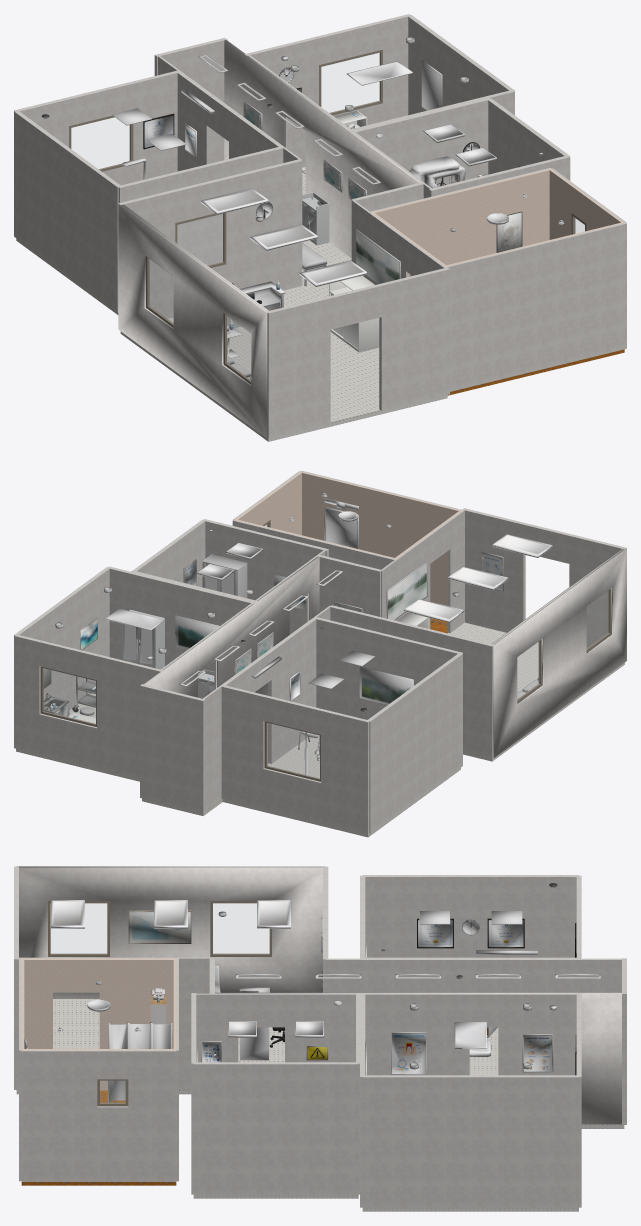
File: scene_named.glb
3 views of the same model, one above another, from view 1: azimuth 30°, elevation 25°; view 2: azimuth 150°, elevation 25°; view 3: azimuth 270°, elevation 25° (orthographic). The views are drawn at different scales.
Parts seen in each view (by area): view 1: south_wall_exterior_bathroom/south_wall_exterior_bathroom/ge, south_wall_exterior_reception_waiting/south_wall_exterior_re, west_wall_exterior_reception_waiting/west_wall_exterior_rece, west_wall_exterior_exam_room_1/west_wall_exterior_exam_room_, north_wall_reception_waiting/north_wall_reception_waiting/ge, east_wall_corridor/east_wall_corridor/geometry_0, north_wall_bathroom/north_wall_bathroom/geometry_0, north_wall_exam_room_2/north_wall_exam_room_2/geometry_0, north_wall_exam_room_1/north_wall_exam_room_1/geometry_0, floor_reception_waiting, north_wall_xray_room/north_wall_xray_room/geometry_0, south_wall_exterior_exam_room_1/south_wall_exterior_exam_roo (+28 smaller); view 2: north_wall_exterior_exam_room_1/north_wall_exterior_exam_roo, west_wall_exterior_reception_waiting/west_wall_exterior_rece, north_wall_exterior_exam_room_2/north_wall_exterior_exam_roo, west_wall_exterior_exam_room_1/west_wall_exterior_exam_room_, south_wall_reception_waiting/south_wall_reception_waiting/ge, south_wall_bathroom/south_wall_bathroom/geometry_0, north_wall_exterior_corridor/north_wall_exterior_corridor/ge, east_wall_corridor/east_wall_corridor/geometry_0, south_wall_exam_room_1/south_wall_exam_room_1/geometry_0, south_wall_exam_room_2/south_wall_exam_room_2/geometry_0, north_wall_exterior_reception_waiting/north_wall_exterior_re, east_wall_exam_room_2/east_wall_exam_room_2/geometry_0 (+25 smaller); view 3: east_wall_exterior_exam_room_2/east_wall_exterior_exam_room_, east_wall_exterior_xray_room/east_wall_exterior_xray_room/ge, west_wall_reception_waiting/west_wall_reception_waiting/geom, east_wall_exterior_bathroom/east_wall_exterior_bathroom/geom, west_wall_exam_room_1/west_wall_exam_room_1/geometry_0, west_wall_exam_room_2/west_wall_exam_room_2/geometry_0, west_wall_corridor/west_wall_corridor/geometry_0, west_wall_bathroom/west_wall_bathroom/geometry_0, west_wall_xray_room/west_wall_xray_room/geometry_0, east_wall_corridor/east_wall_corridor/geometry_0, floor_reception_waiting, east_wall_reception_waiting/east_wall_reception_waiting/geom (+33 smaller).
Part boxes in pixels (box(x1,y1,x2,y2)): south_wall_exterior_bathroom/south_wall_exterior_bathroom/ge: box(444, 222, 626, 391); south_wall_exterior_reception_waiting/south_wall_exterior_re: box(267, 268, 449, 438); west_wall_exterior_reception_waiting/west_wall_exterior_rece: box(118, 204, 267, 437); west_wall_exterior_exam_room_1/west_wall_exterior_exam_room_: box(14, 111, 118, 312); north_wall_reception_waiting/north_wall_reception_waiting/ge: box(120, 160, 302, 318); east_wall_corridor/east_wall_corridor/geometry_0: box(224, 40, 420, 258); north_wall_bathroom/north_wall_bathroom/geometry_0: box(370, 168, 552, 265); north_wall_exam_room_2/north_wall_exam_room_2/geometry_0: box(246, 15, 410, 167); north_wall_exam_room_1/north_wall_exam_room_1/geometry_0: box(15, 71, 180, 185); floor_reception_waiting: box(120, 286, 447, 441); north_wall_xray_room/north_wall_xray_room/geometry_0: box(352, 98, 490, 186); south_wall_exterior_exam_room_1/south_wall_exterior_exam_roo: box(118, 147, 283, 265); north_wall_exterior_exam_room_1/north_wall_exterior_exam_roo: box(221, 685, 369, 834); west_wall_exterior_reception_waiting/west_wall_exterior_rece: box(493, 548, 626, 757); north_wall_exterior_exam_room_2/north_wall_exterior_exam_roo: box(14, 635, 161, 778); west_wall_exterior_exam_room_1/west_wall_exterior_exam_room_: box(369, 653, 462, 833); south_wall_reception_waiting/south_wall_reception_waiting/ge: box(462, 509, 625, 648); south_wall_bathroom/south_wall_bathroom/geometry_0: box(299, 471, 462, 605); north_wall_exterior_corridor/north_wall_exterior_corridor/ge: box(140, 685, 204, 812); east_wall_corridor/east_wall_corridor/geometry_0: box(143, 556, 319, 697); south_wall_exam_room_1/south_wall_exam_room_1/geometry_0: box(314, 617, 461, 719); south_wall_exam_room_2/south_wall_exam_room_2/geometry_0: box(107, 567, 254, 671); north_wall_exterior_reception_waiting/north_wall_exterior_re: box(330, 606, 493, 758); east_wall_exam_room_2/east_wall_exam_room_2/geometry_0: box(17, 568, 109, 709); east_wall_exterior_exam_room_2/east_wall_exterior_exam_room_: box(362, 1076, 578, 1207); east_wall_exterior_xray_room/east_wall_exterior_xray_room/ge: box(193, 1063, 358, 1194); west_wall_reception_waiting/west_wall_reception_waiting/geom: box(19, 867, 322, 998); east_wall_exterior_bathroom/east_wall_exterior_bathroom/geom: box(21, 1050, 176, 1181); west_wall_exam_room_1/west_wall_exam_room_1/geometry_0: box(365, 876, 576, 957); west_wall_exam_room_2/west_wall_exam_room_2/geometry_0: box(365, 993, 576, 1075); west_wall_corridor/west_wall_corridor/geometry_0: box(325, 958, 621, 1075); west_wall_bathroom/west_wall_bathroom/geometry_0: box(24, 958, 173, 1090); west_wall_xray_room/west_wall_xray_room/geometry_0: box(196, 993, 355, 1062); east_wall_corridor/east_wall_corridor/geometry_0: box(215, 992, 621, 1124); floor_reception_waiting: box(16, 999, 284, 1094); east_wall_reception_waiting/east_wall_reception_waiting/geom: box(19, 957, 212, 1089).
Bounding box in the file's own units: 9.7 × 2.9 × 11.9.
Materials: 142 (122 with a texture image).
